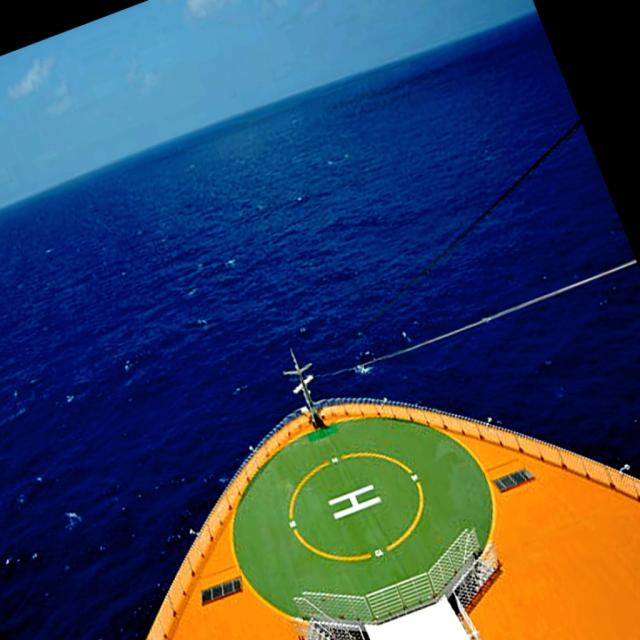helipad: (280, 442, 430, 566)
